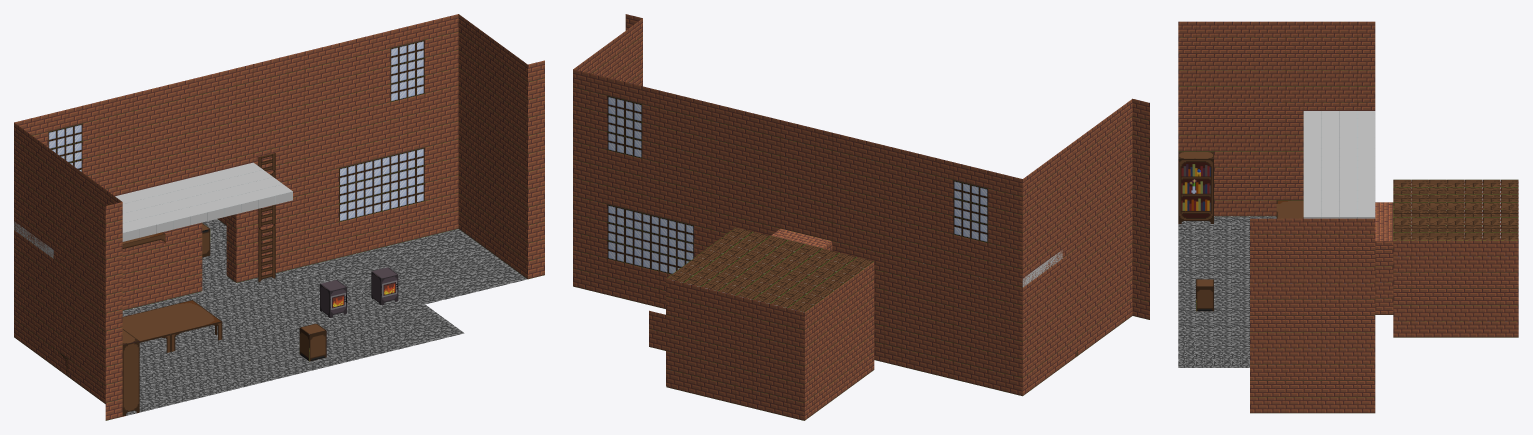
The model's file is Workshop Rough Render.dae.
3 renders of one model, left to right at view 1: azimuth 30°, elevation 25°; view 2: azimuth 150°, elevation 25°; view 3: azimuth 270°, elevation 25°, orthographic. The views are drawn at different scales.
Parts seen in each view (by area): view 1: default; view 2: default; view 3: default.
Part boxes in pixels (x1,y1,x2,y2): default: (14, 14, 544, 420); default: (573, 14, 1149, 420); default: (1178, 21, 1518, 413).
Size of the model in its own units: 28 by 12 by 19.
Materials: 1 (1 with a texture image).
